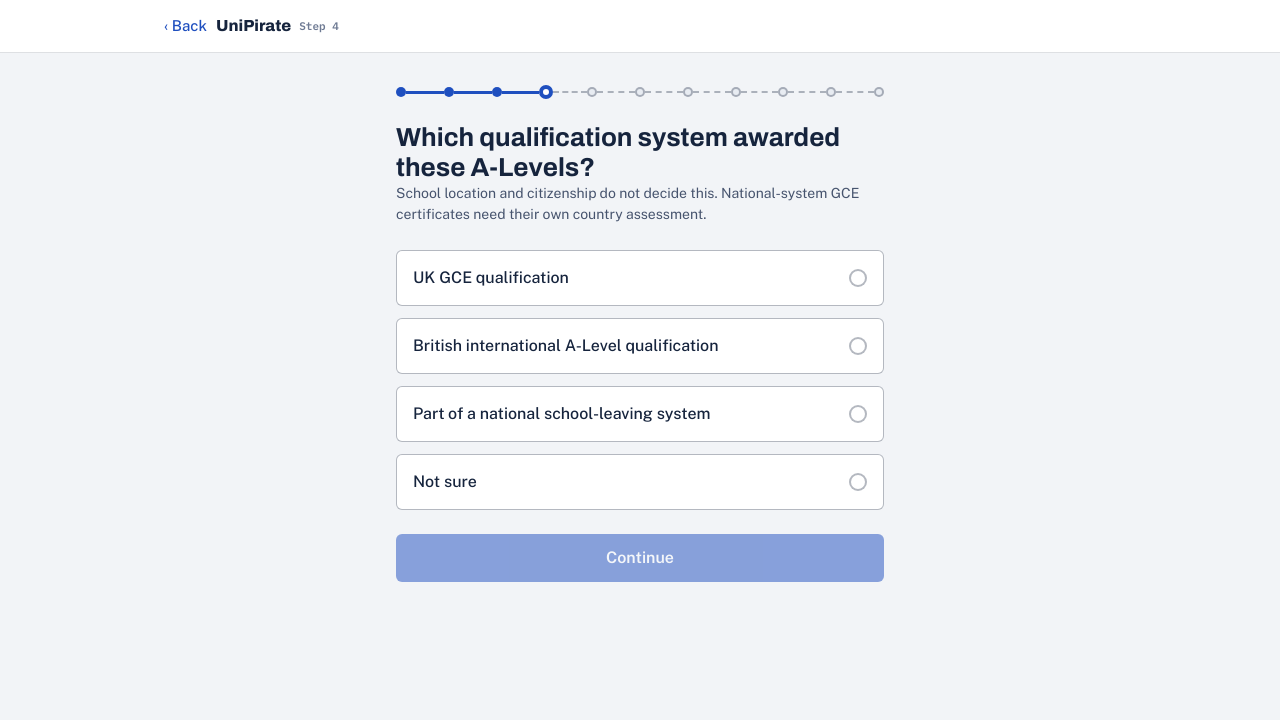
it: mounted checker selects national and retains it through Continue, Back and draft remount
Expected: the button "Continue" is disabled, [396,534,884,582]
Click the button "Part of a national school-leaving system". click: {"x": 640, "y": 414}
box: [396,386,884,442]
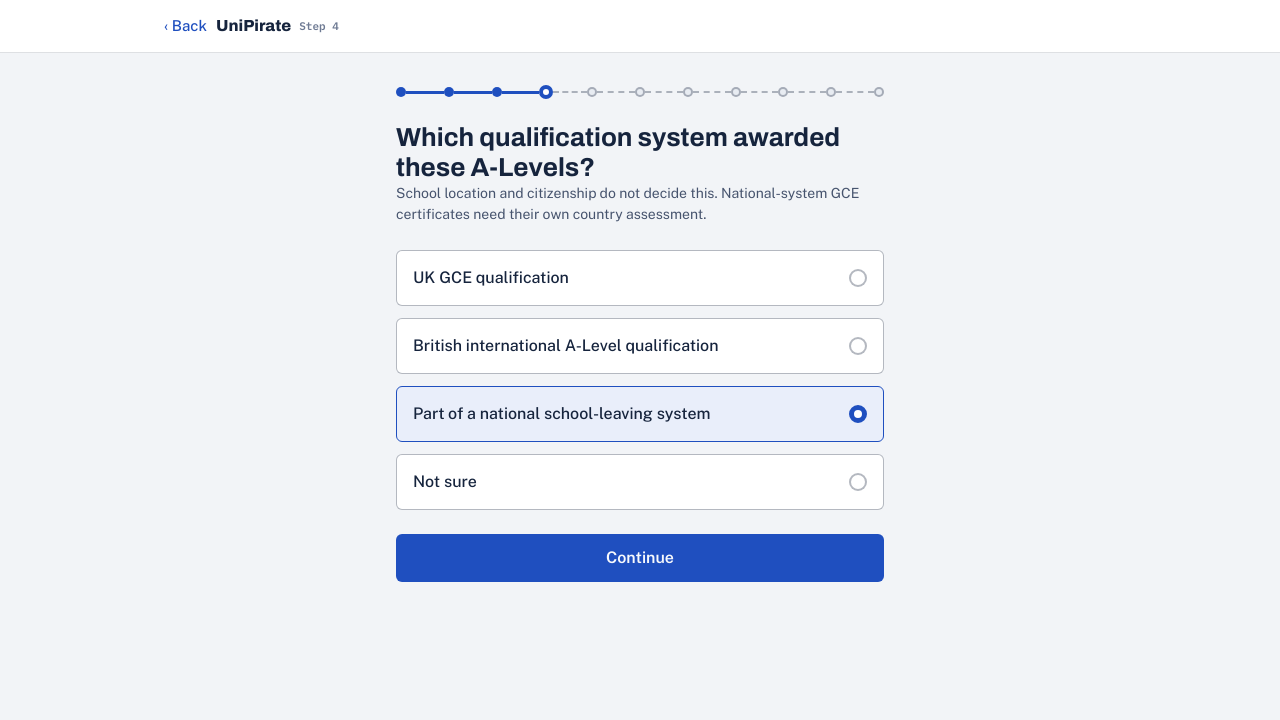
Result: the button "Continue" is enabled
Click the button "Continue". click: {"x": 640, "y": 558}
box: [396,534,884,582]
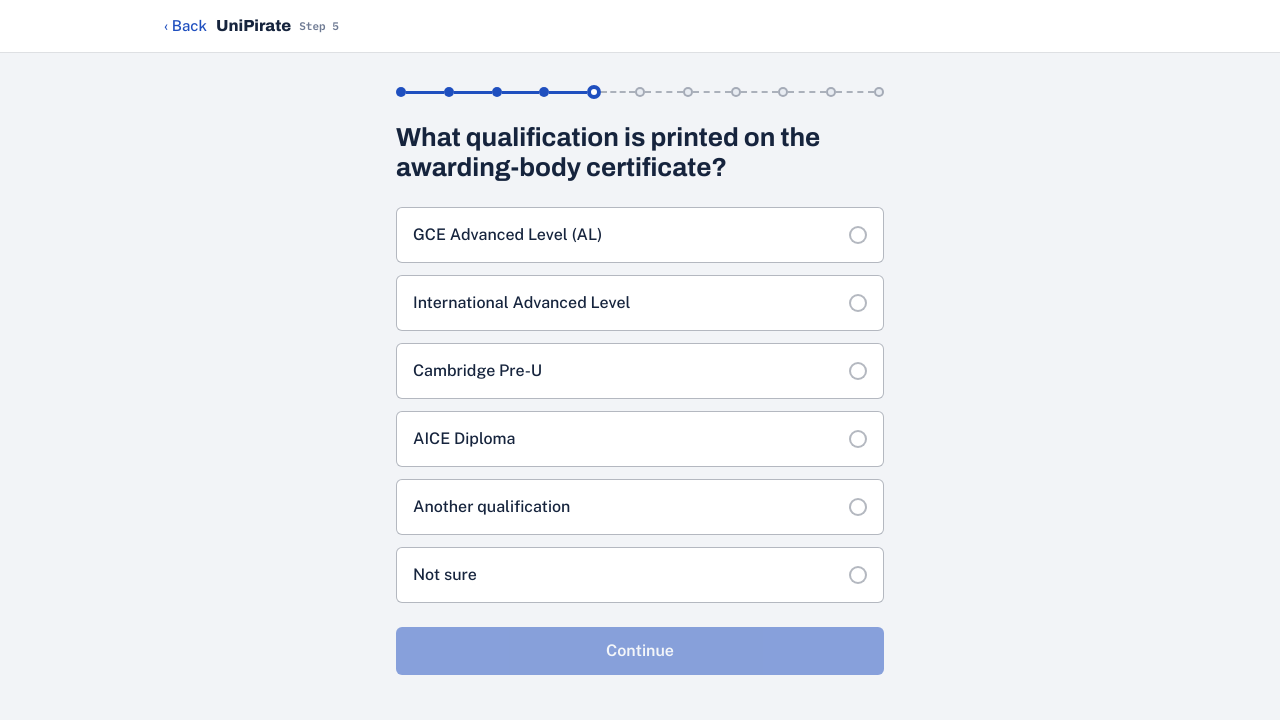
Result: the heading shows "printed on" at [396,123,820,181]
Click the button "‹ Back". click: {"x": 186, "y": 26}
box: [164,4,208,48]
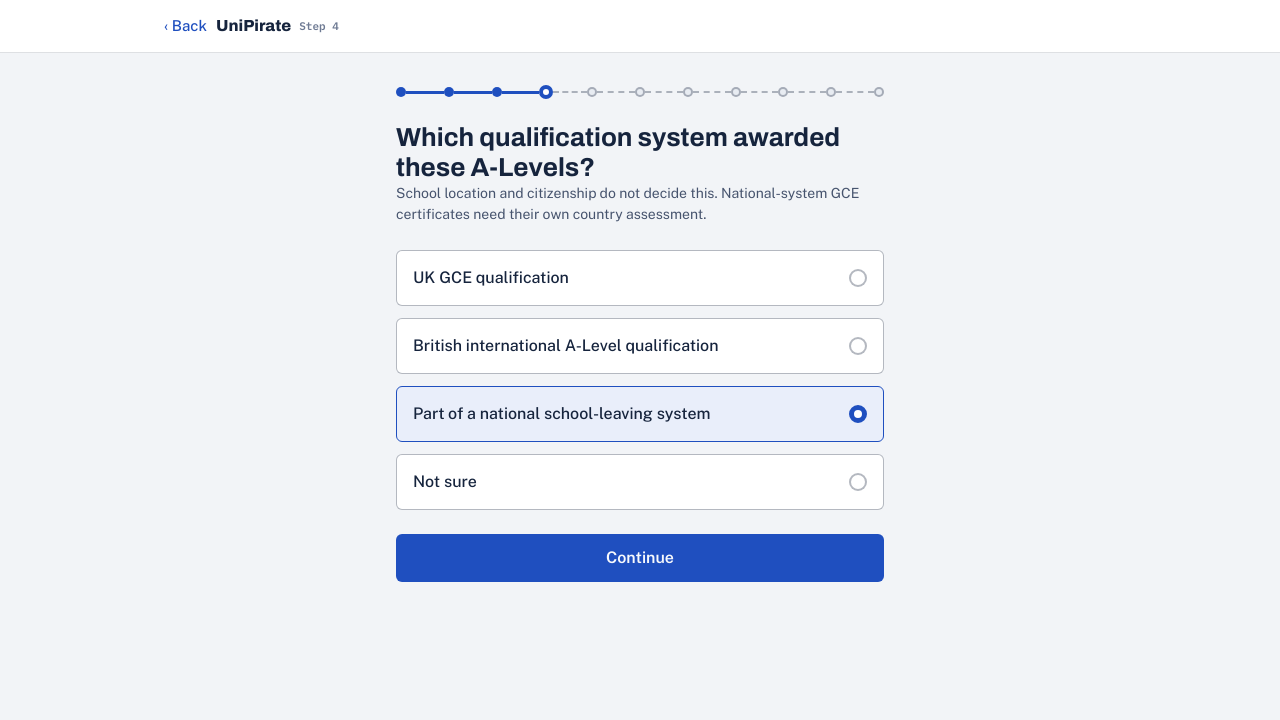
Result: the button "Continue" is enabled at [396,534,884,582]
